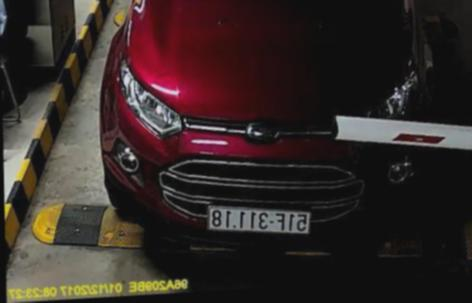License_Plate: (207, 202, 318, 239)
